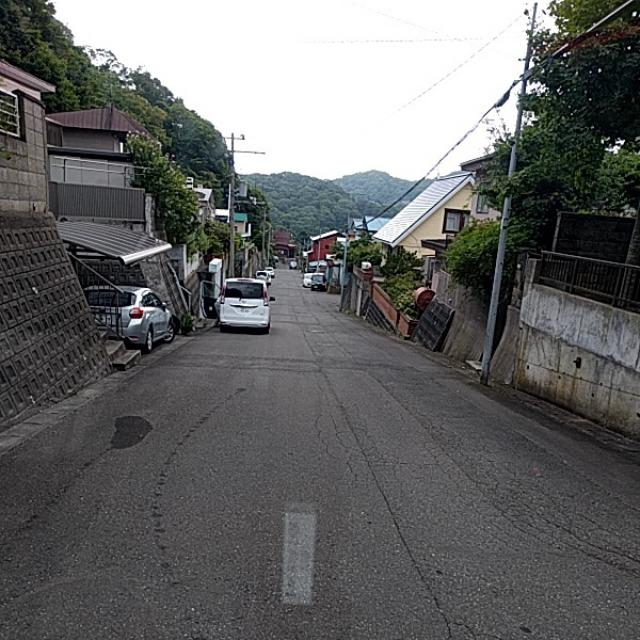pothole: (319, 338, 603, 576)
